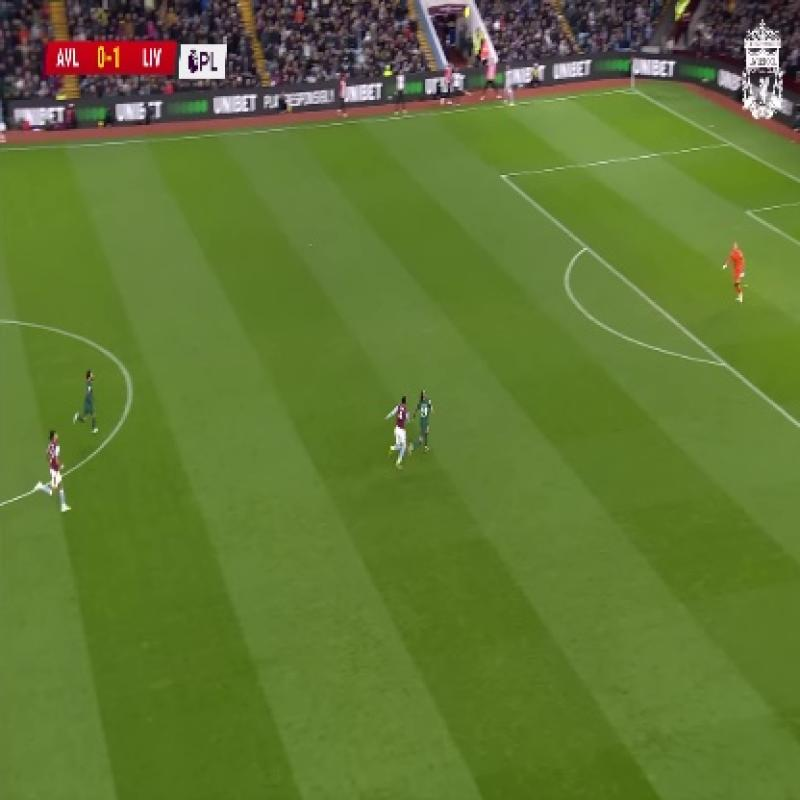1: (619, 80, 642, 96)
10: (575, 234, 594, 258)
11: (714, 348, 732, 375)
2: (719, 133, 737, 152)
7: (736, 200, 756, 221)
9: (492, 162, 511, 186)
c: (116, 368, 144, 407)
